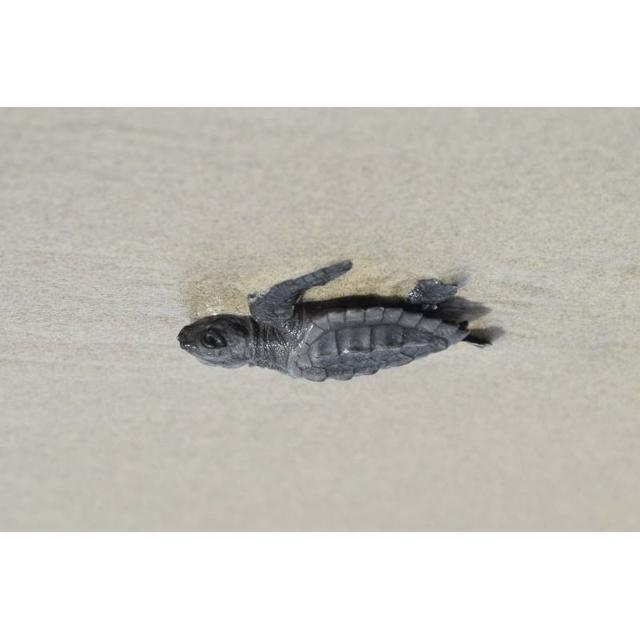turtle: (173, 261, 490, 383)
